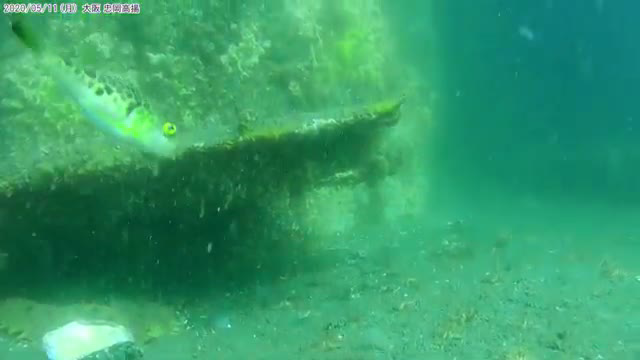hugu: (17, 32, 193, 167)
